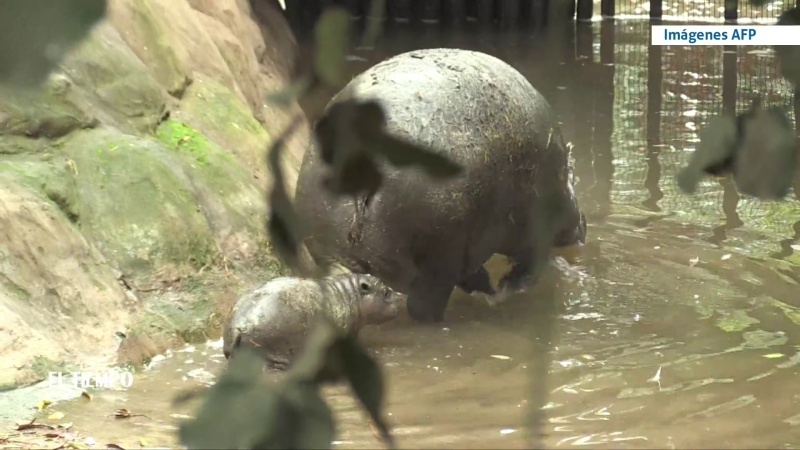hipopotamo: (286, 35, 601, 323), (203, 258, 422, 389)
